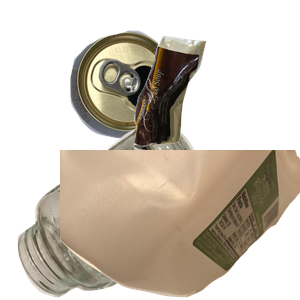glass: (15, 126, 229, 300)
metal: (68, 28, 237, 159)
plastic: (60, 150, 300, 300)
trash: (131, 34, 300, 177)
